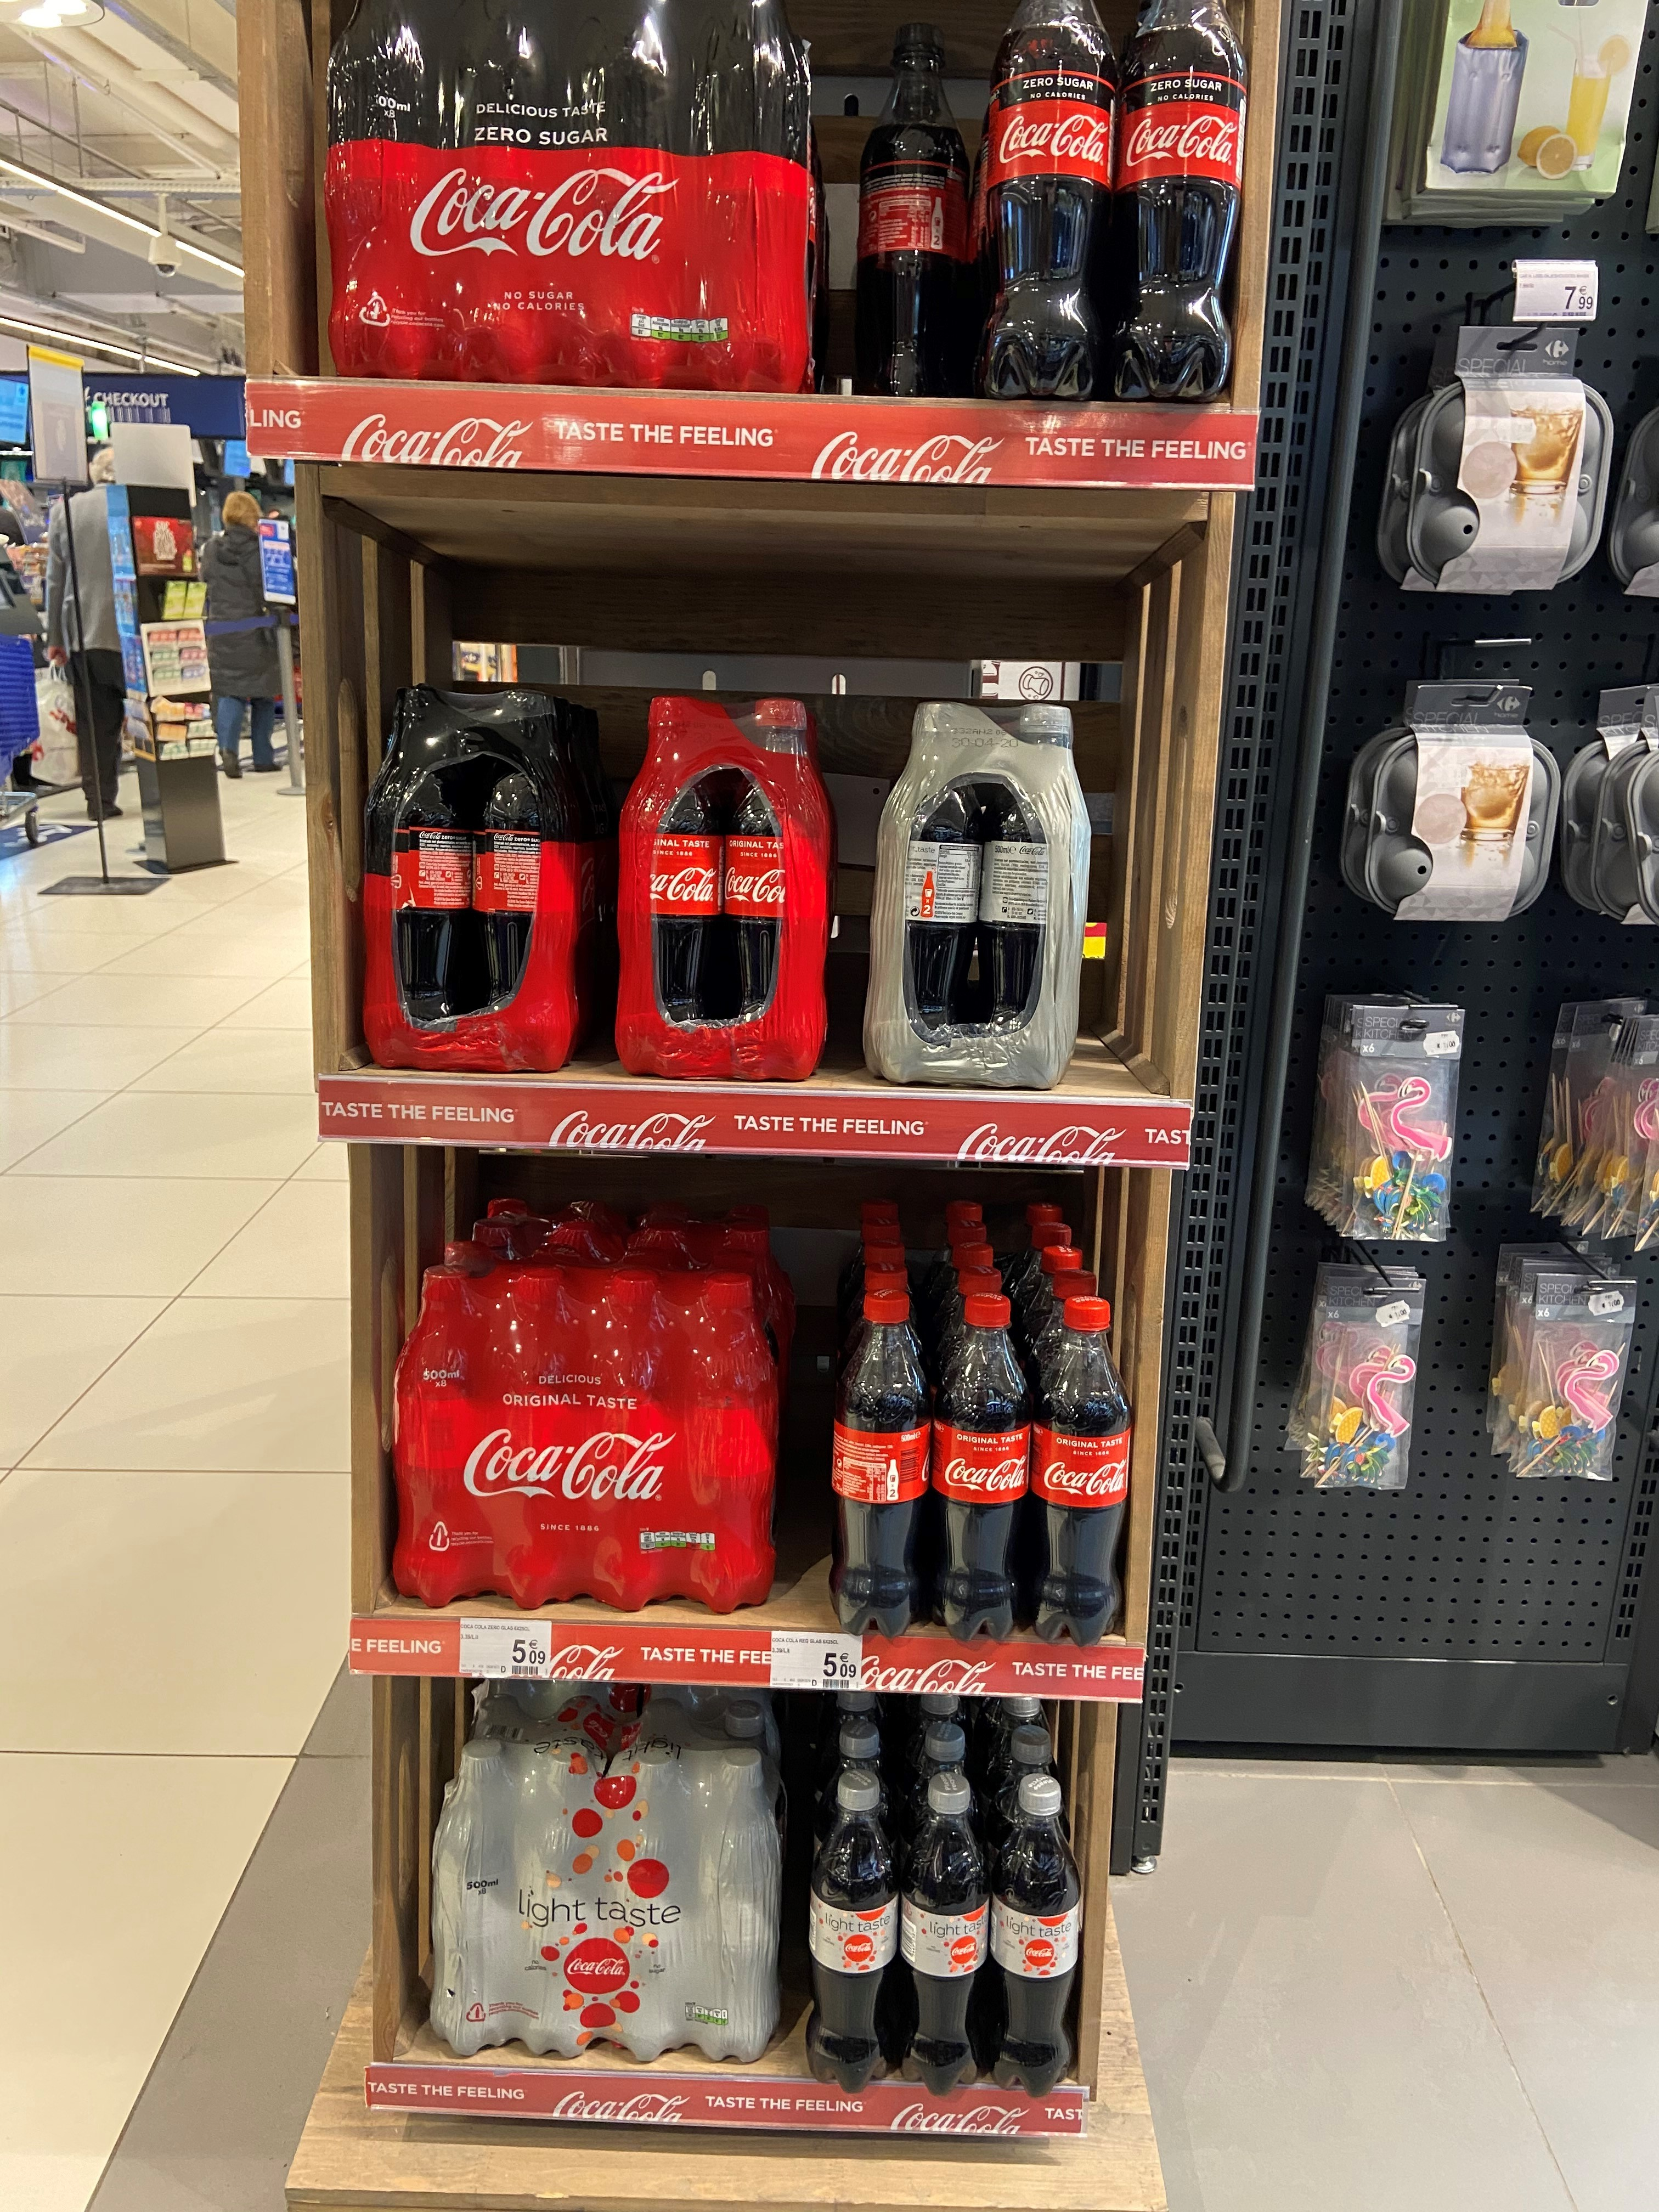CarrefourIceBall: (1410, 383, 1614, 596), (1368, 733, 1561, 927)
CarrefourSpecialKitchen: (1347, 1005, 1462, 1244), (1514, 1275, 1640, 1479), (1310, 1278, 1424, 1493)
CocaColaFles500ml: (826, 1285, 936, 1641), (929, 1291, 1033, 1642), (1030, 1296, 1133, 1649)
CocaColaFles8x500ml: (390, 1249, 779, 1608), (617, 695, 833, 1082)
CocaColaLightFles500ml: (894, 1771, 992, 2099), (807, 1768, 903, 2094), (988, 1771, 1082, 2097)
CocaColaLightFles8x500ml: (429, 1696, 791, 2064), (857, 702, 1091, 1090)
CocaColaZeroFles1,5L: (1103, 0, 1251, 397), (976, 0, 1119, 408)
CocaColaZeroFles500ml: (854, 21, 972, 409)
CocaColaZeroFles8x500ml: (324, 0, 816, 399), (362, 685, 603, 1075)
__UNKNOWN: (1405, 0, 1649, 197)
